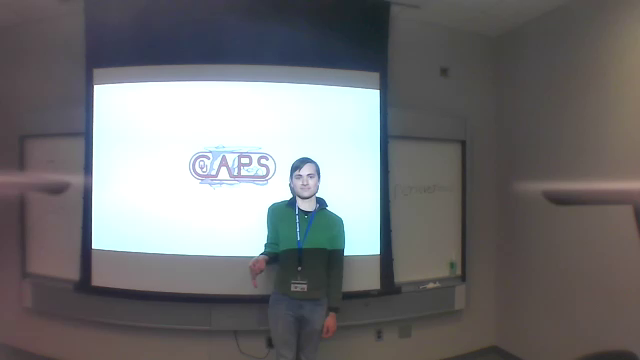down: (247, 252, 268, 288)
